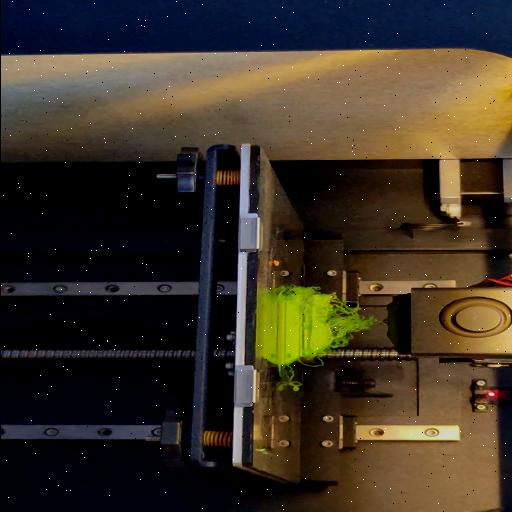spaghetti: (324, 293, 376, 352), (300, 356, 329, 368), (286, 367, 299, 391), (276, 284, 288, 294)
